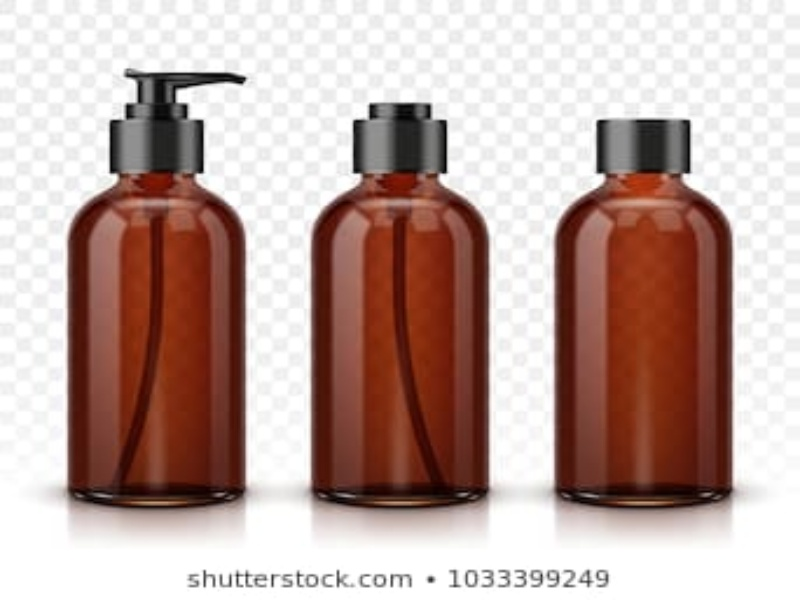shampoo-bottle: (61, 63, 249, 514), (305, 98, 500, 509), (548, 114, 740, 513)
